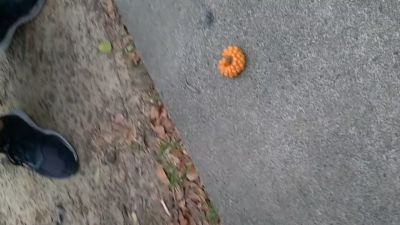eggs: (216, 45, 248, 79)
